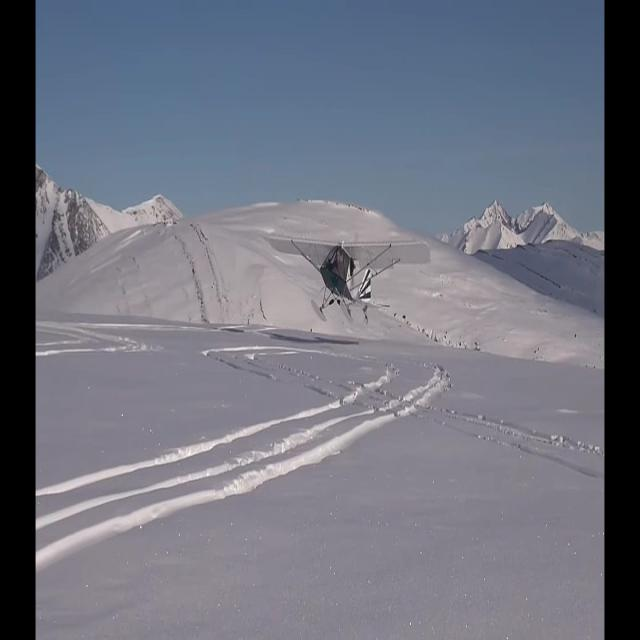iha: (269, 268, 432, 294)
